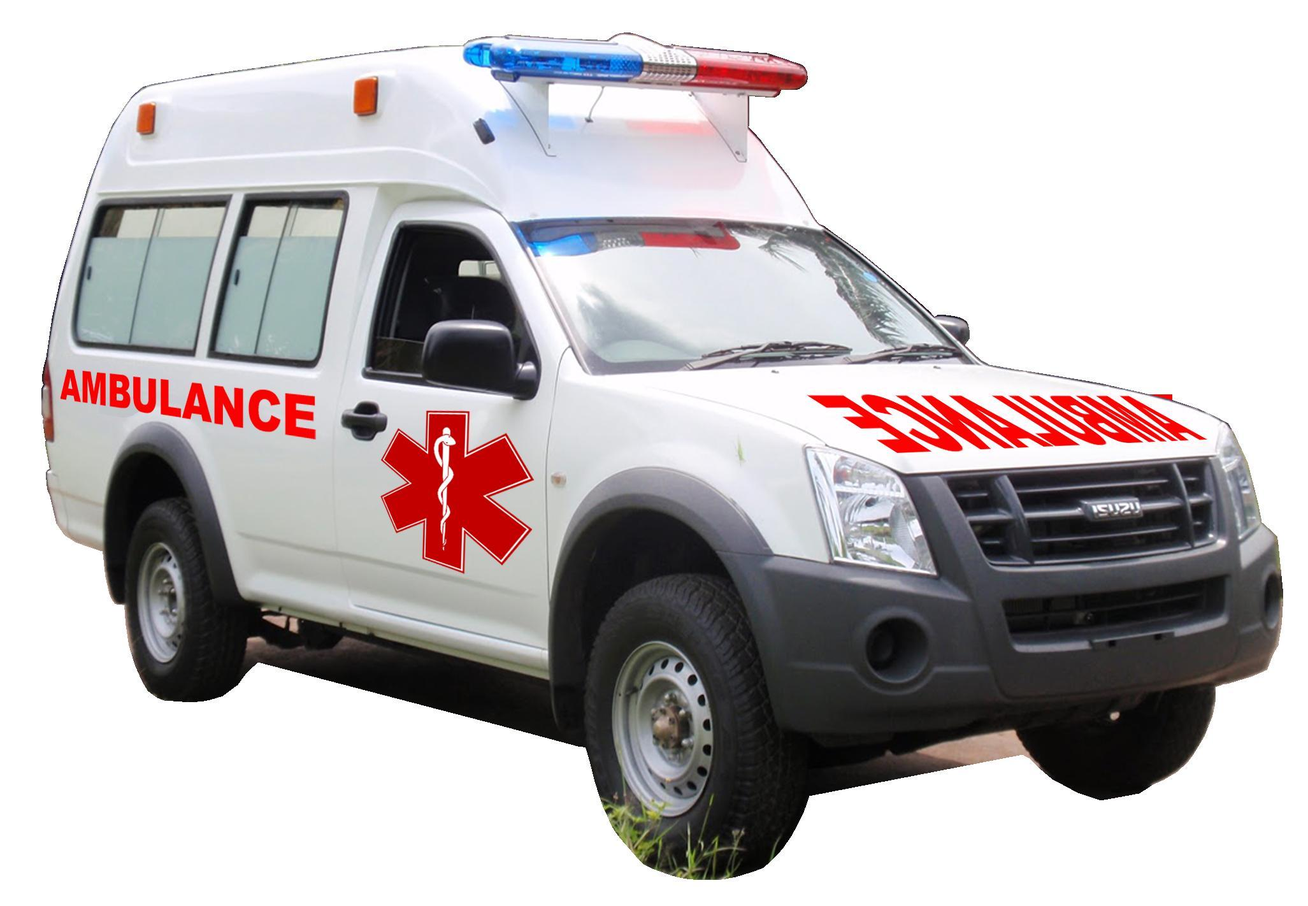Ambulance: (795, 383, 1219, 475), (372, 404, 548, 589), (62, 359, 331, 442)
